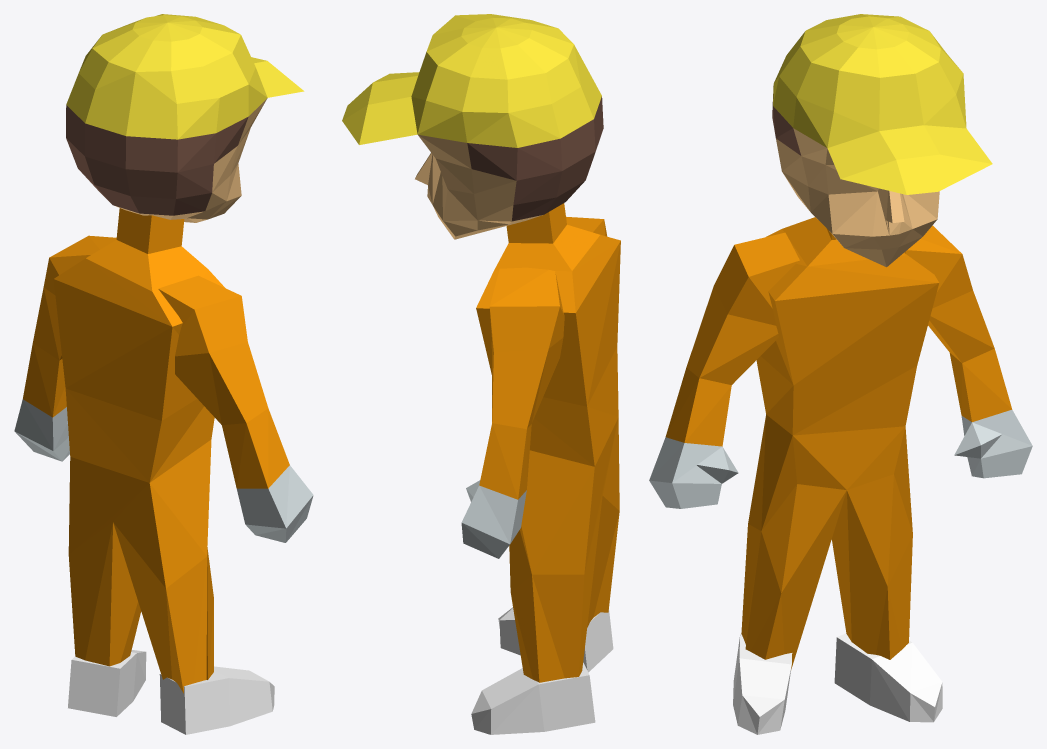
The model's file is scene_t2UPGhd8YY.glb.
The picture shows the model from 3 angles, left to right: view 1: azimuth 30°, elevation 25°; view 2: azimuth 150°, elevation 25°; view 3: azimuth 270°, elevation 25°; orthographic projection. The views are drawn at different scales.
Visible parts, largest first — view 1: group1029955079, group928626166, group77218923, group1978949342, group2091859235, group1482077934; view 2: group1029955079, group928626166, group1978949342, group1482077934, group2091859235, group77218923; view 3: group1029955079, group928626166, group77218923, group1978949342, group1482077934, group2091859235.
Part boxes in pixels (bbox=[...]): group1029955079: bbox=[53, 208, 224, 693]; group928626166: bbox=[66, 14, 304, 222]; group77218923: bbox=[158, 275, 313, 542]; group1978949342: bbox=[14, 235, 116, 461]; group2091859235: bbox=[159, 666, 274, 734]; group1482077934: bbox=[68, 650, 146, 716]; group1029955079: bbox=[476, 203, 620, 682]; group928626166: bbox=[342, 14, 603, 239]; group1978949342: bbox=[461, 267, 564, 558]; group1482077934: bbox=[471, 662, 595, 734]; group2091859235: bbox=[498, 607, 613, 672]; group77218923: bbox=[566, 216, 607, 236]; group1029955079: bbox=[741, 217, 938, 669]; group928626166: bbox=[772, 14, 992, 267]; group77218923: bbox=[649, 232, 799, 508]; group1978949342: bbox=[904, 225, 1032, 478]; group1482077934: bbox=[834, 633, 942, 722]; group2091859235: bbox=[733, 634, 792, 734].
Size of the model in its own units: 0.2561 by 0.7143 by 0.3555.
